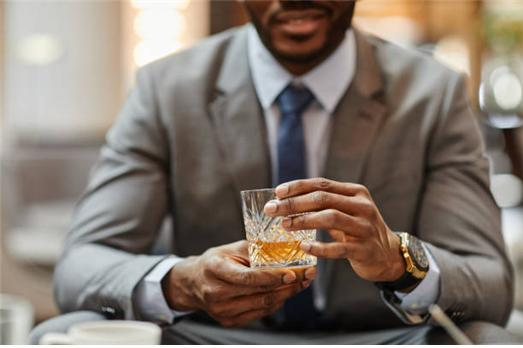alcohol: (243, 187, 319, 273)
